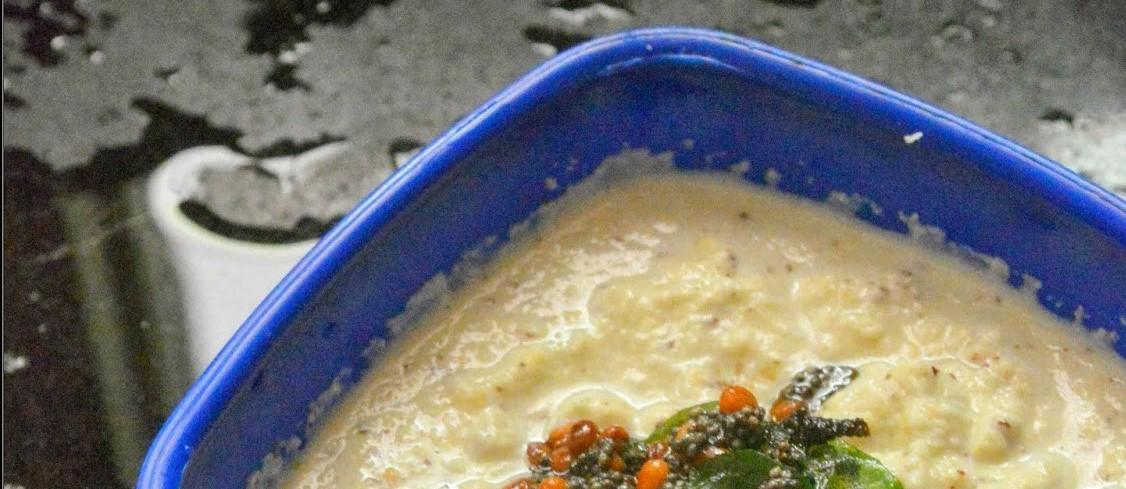CoconutChutney: (263, 161, 1126, 489)
